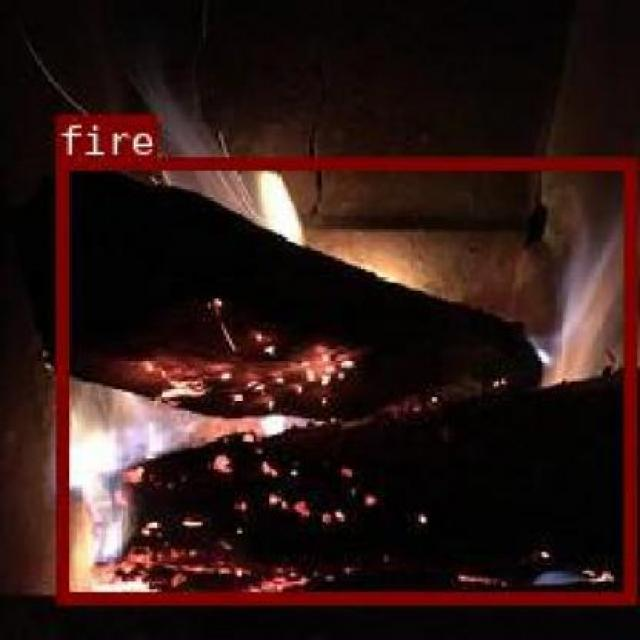Fire: (54, 156, 634, 601)
